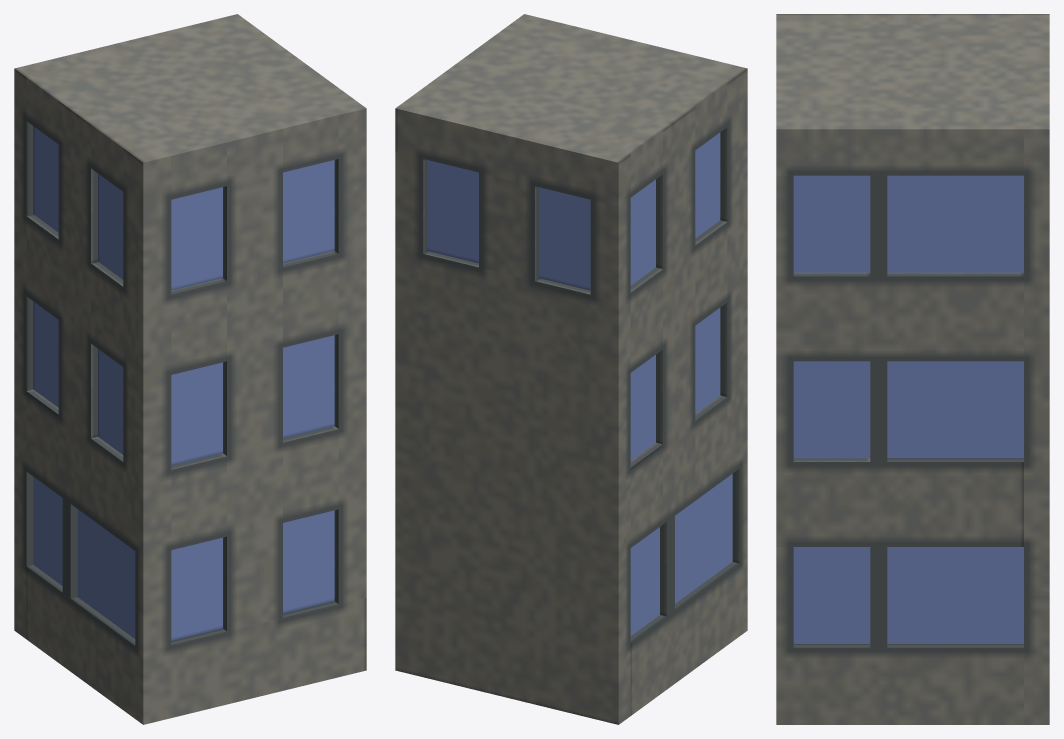
The picture shows the model from 3 angles, left to right: view 1: azimuth 30°, elevation 25°; view 2: azimuth 150°, elevation 25°; view 3: azimuth 270°, elevation 25°; orthographic projection. The views are drawn at different scales.
Parts seen in each view (by area): view 1: Content; view 2: Content; view 3: Content.
Boxes of the visible parts, x1,y1,x2,y2 form: Content: (14, 14, 366, 724); Content: (395, 14, 747, 724); Content: (776, 14, 1049, 724).
Bounding box in the file's own units: 32 × 77 × 32.
Materials: 1 (1 with a texture image).
